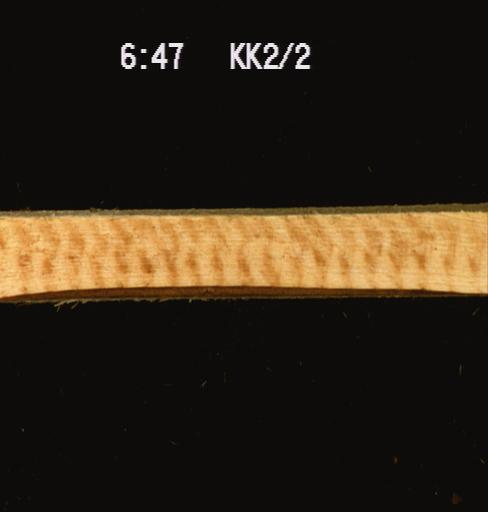wave: (0, 283, 487, 301)
